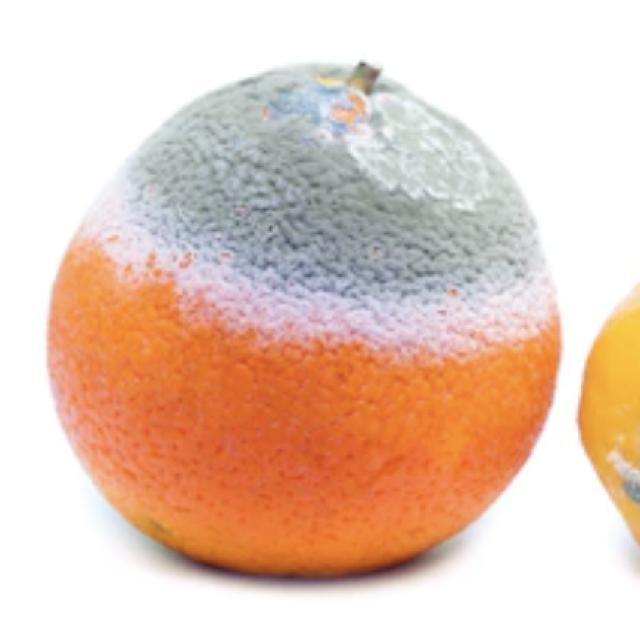sangat-busuk: (48, 63, 560, 574)
